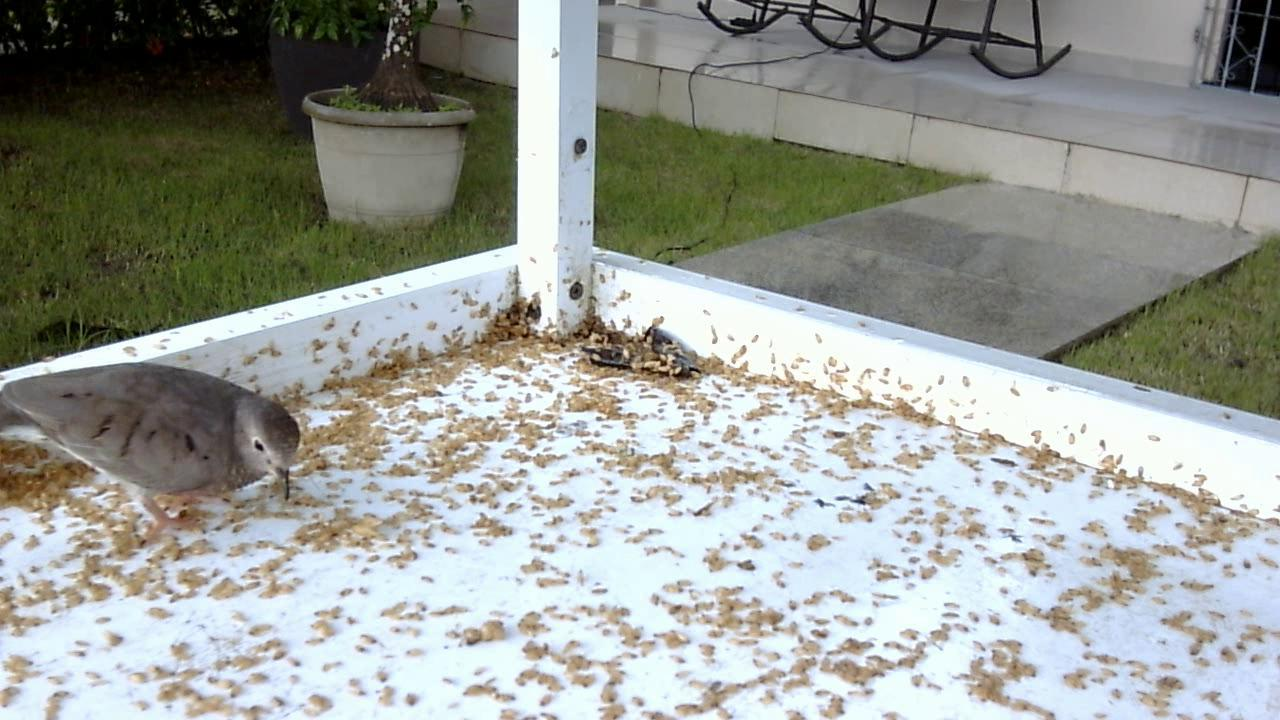rolinha: (1, 351, 308, 573)
